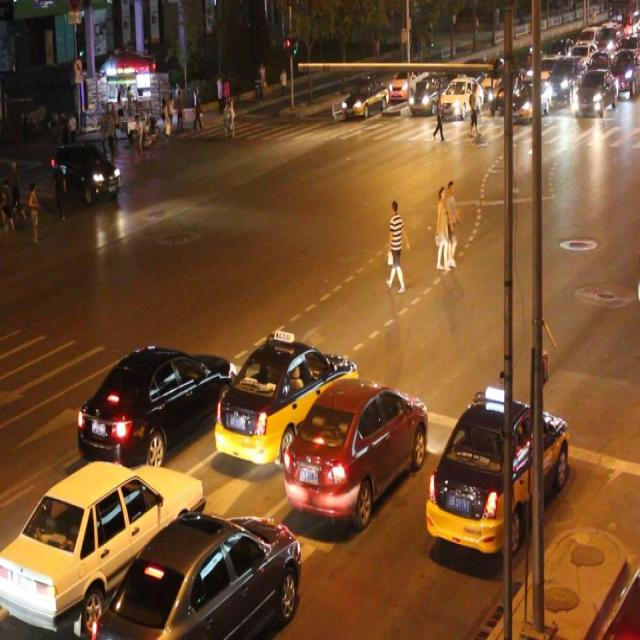car: (1, 458, 202, 632), (94, 508, 302, 640), (422, 395, 568, 551), (282, 376, 426, 518), (75, 340, 236, 465), (214, 334, 358, 465)
